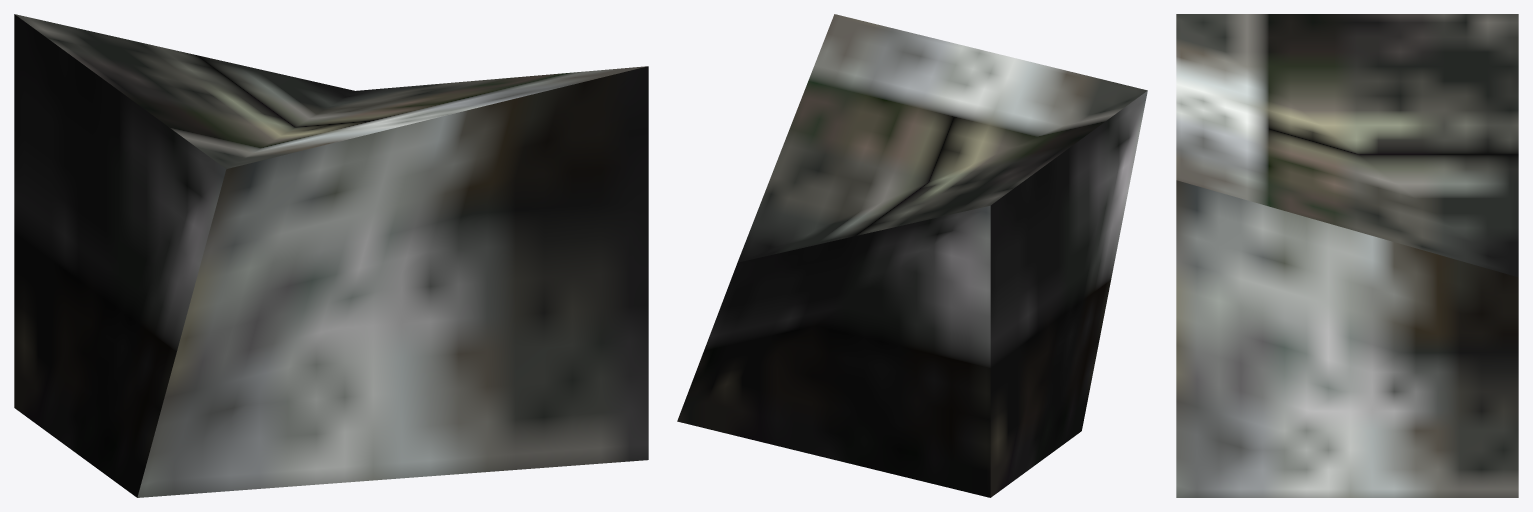
The model's file is USA - Base Infrastructure - Power Plant - Damage State 14 - ABPWRPLANT_d14.glb.
The picture shows the model from 3 angles, left to right: view 1: azimuth 30°, elevation 25°; view 2: azimuth 150°, elevation 25°; view 3: azimuth 270°, elevation 25°; orthographic projection. The views are drawn at different scales.
Parts seen in each view (by area): view 1: ABPWRPLANT_D14; view 2: ABPWRPLANT_D14; view 3: ABPWRPLANT_D14.
Boxes of the visible parts, <box> form: ABPWRPLANT_D14: <box>14,14,648,497</box>; ABPWRPLANT_D14: <box>677,14,1147,497</box>; ABPWRPLANT_D14: <box>1176,14,1518,497</box>.
Size of the model in its own units: 4.31 by 3.84 by 3.75.
1 material, 1 textured.
